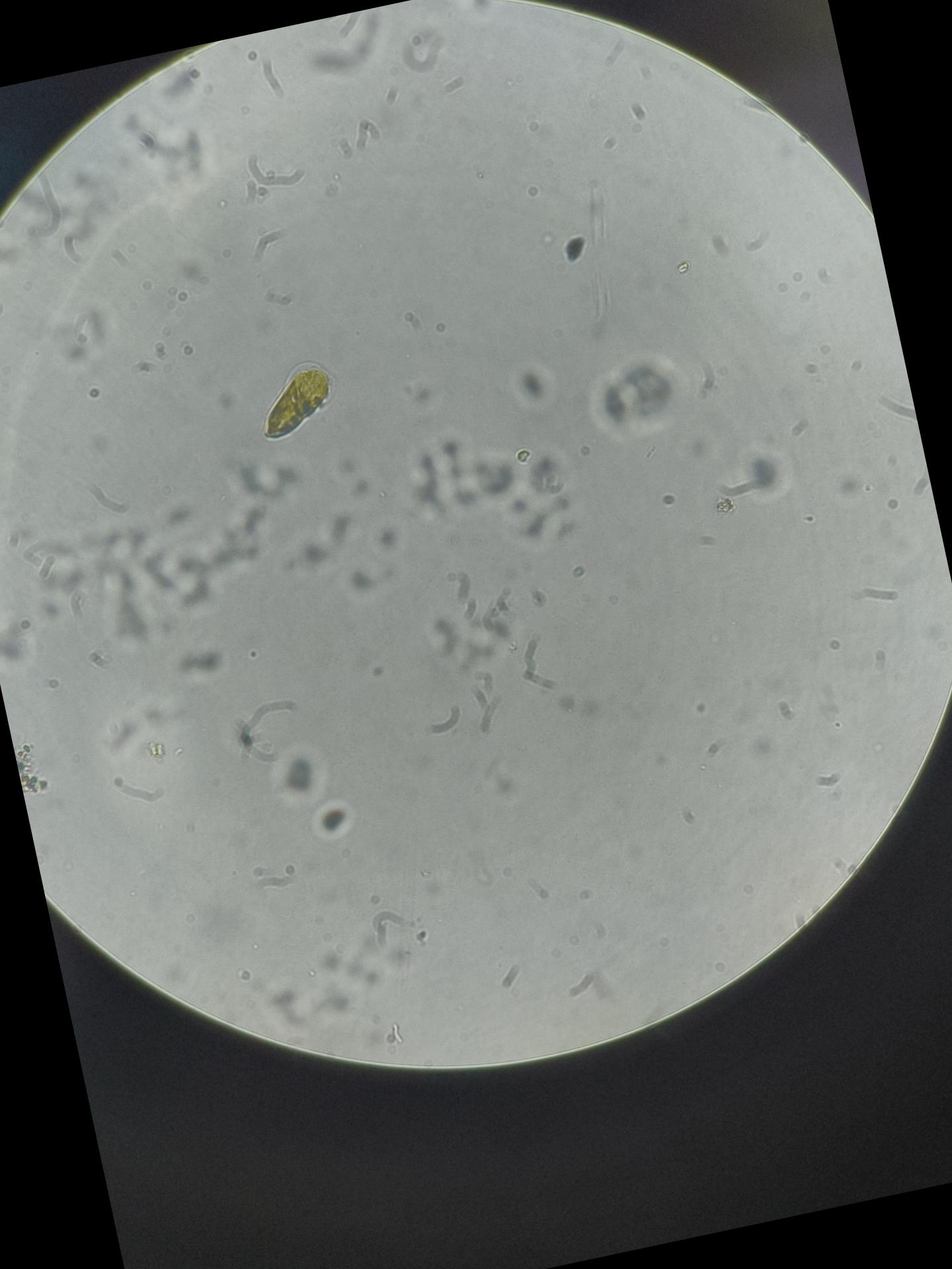Euglena: (240, 335, 364, 456)
